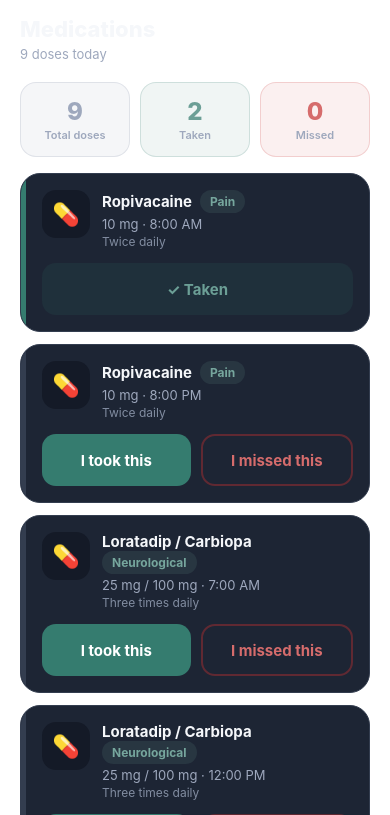
Test case: MedicationsScreen › marking a dose as missed requires confirmation via the modal
This screenshot has width=390, height=815.
Click the button "I missed this" below "8:00 PM". click: (277, 460)
box: [200, 434, 353, 486]
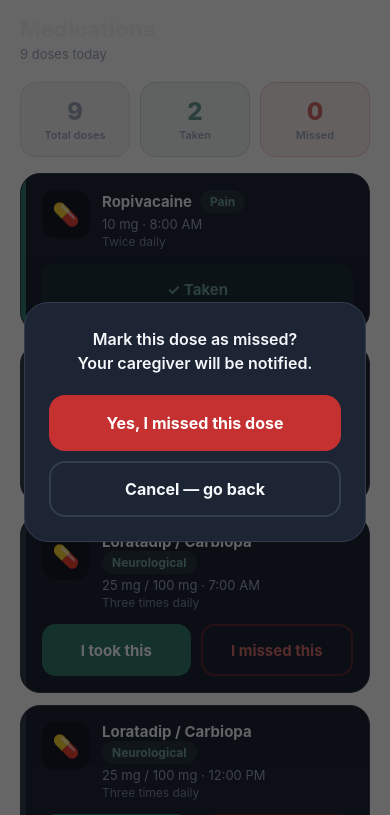
Check: the text "Mark this dose as missed? Your caregiver will be notified." is shown, box [78, 329, 312, 373]
Click the button "Yes, I missed this dose". click: (195, 423)
box: [49, 395, 341, 451]
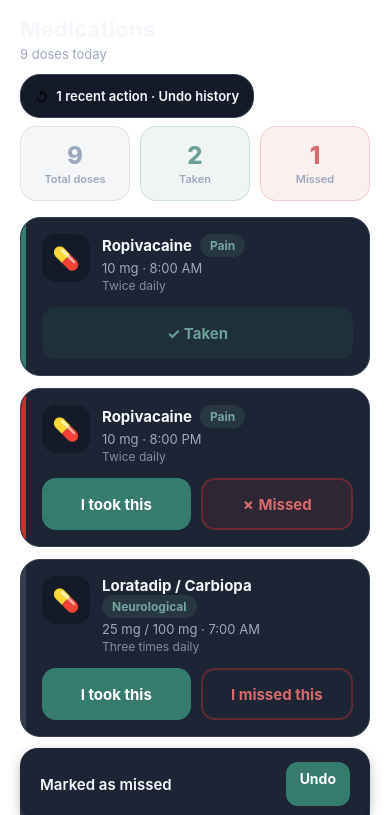
Check: the text "Marked as missed" is shown, box [40, 774, 172, 794]
